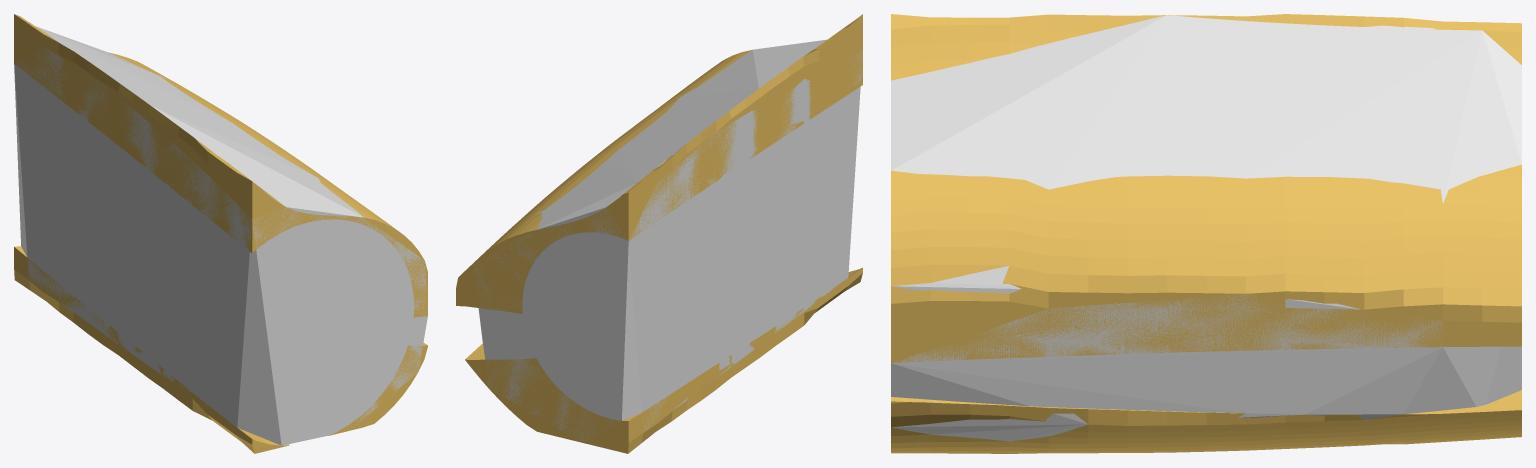
Rendered from fuel_aft_L.fbx.
3 views of the same model, side by side, from view 1: azimuth 30°, elevation 25°; view 2: azimuth 150°, elevation 25°; view 3: azimuth 270°, elevation 25° (orthographic). The views are drawn at different scales.
Visible parts, largest first — view 1: fuel_aft_L_colmesh0, fuel_aft_L; view 2: fuel_aft_L_colmesh0, fuel_aft_L; view 3: fuel_aft_L_colmesh0, fuel_aft_L.
Part boxes in pixels (box(x1,y1,x2,y2)): fuel_aft_L_colmesh0: box(14, 26, 427, 445); fuel_aft_L: box(14, 14, 427, 453); fuel_aft_L_colmesh0: box(473, 39, 862, 442); fuel_aft_L: box(456, 14, 862, 453); fuel_aft_L_colmesh0: box(891, 15, 1521, 441); fuel_aft_L: box(891, 14, 1521, 453).
Size of what is drawn, in the model's own units: 0.66 by 0.9817 by 1.55.
